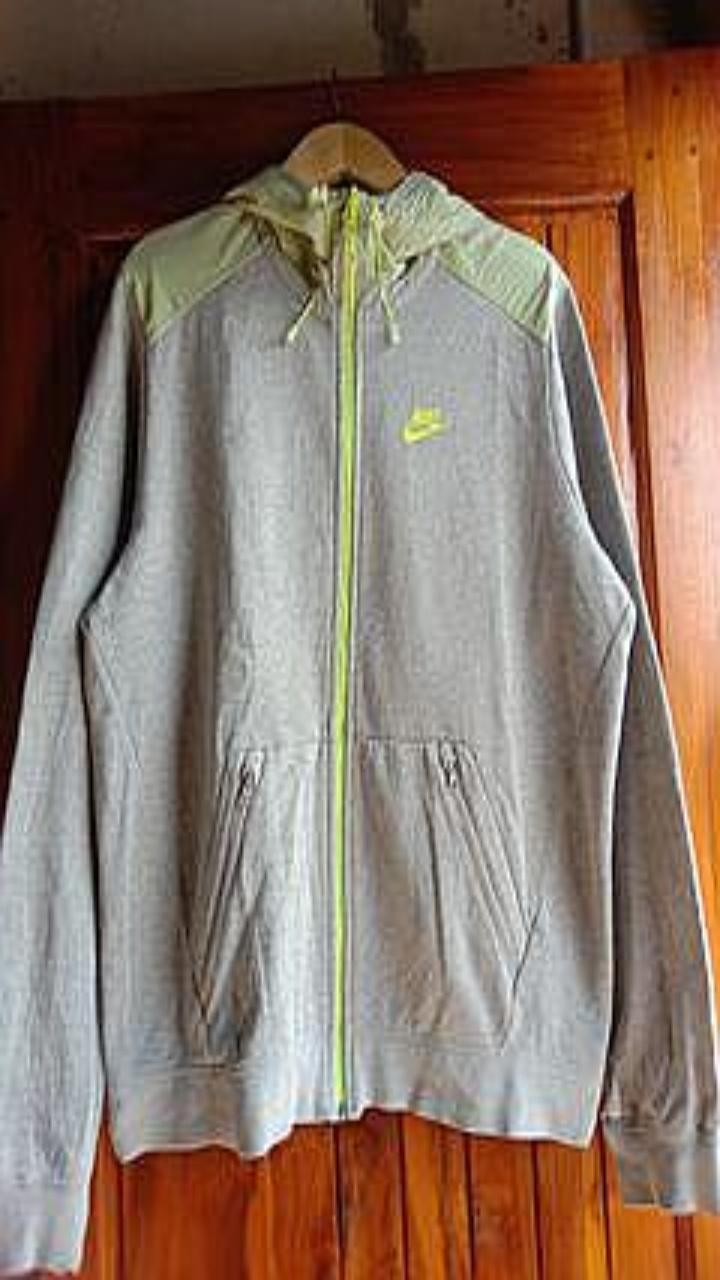Sports_Jacket: (0, 164, 719, 1270)
